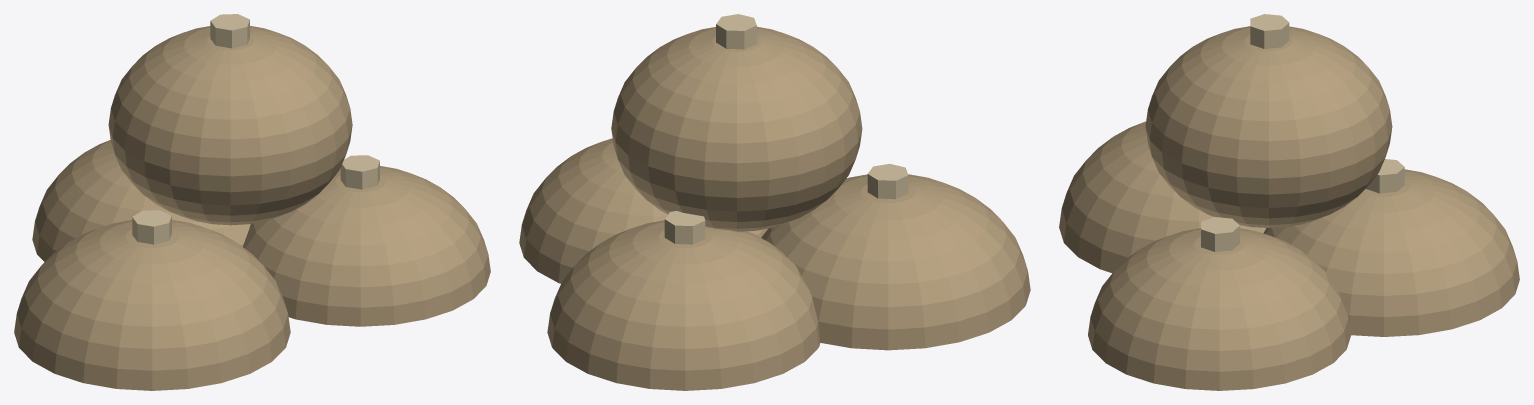
File: pile-sacks.glb
The picture shows the model from 3 angles, left to right: view 1: azimuth 30°, elevation 25°; view 2: azimuth 150°, elevation 25°; view 3: azimuth 270°, elevation 25°; orthographic projection. The views are drawn at different scales.
Parts seen in each view (by area): view 1: sack, sack.001, sack.002, sack.003, knot, knot.003, knot.001; view 2: sack, sack.003, sack.001, sack.002, knot, knot.003, knot.002; view 3: sack, sack.002, sack.003, sack.001, knot.003, knot.001, knot.002.
Part boxes in pixels (<box>): sack: <box>108,26,352,225</box>; sack.001: <box>14,220,290,390</box>; sack.002: <box>243,166,490,326</box>; sack.003: <box>32,140,250,261</box>; knot: <box>132,210,171,244</box>; knot.003: <box>210,14,249,48</box>; knot.001: <box>340,155,379,189</box>; sack: <box>611,26,862,231</box>; sack.003: <box>547,220,820,390</box>; sack.001: <box>761,174,1030,350</box>; sack.002: <box>519,138,767,283</box>; knot: <box>867,163,908,199</box>; knot.003: <box>716,14,756,49</box>; knot.002: <box>664,211,705,244</box>; sack: <box>1145,26,1392,227</box>; sack.002: <box>1088,228,1351,390</box>; sack.003: <box>1263,169,1519,336</box>; sack.001: <box>1059,121,1265,273</box>; knot.003: <box>1250,14,1289,48</box>; knot.001: <box>1201,217,1239,251</box>; knot.002: <box>1366,159,1404,193</box>.
Size of the model in its own units: 1.28 by 0.699 by 1.12.
